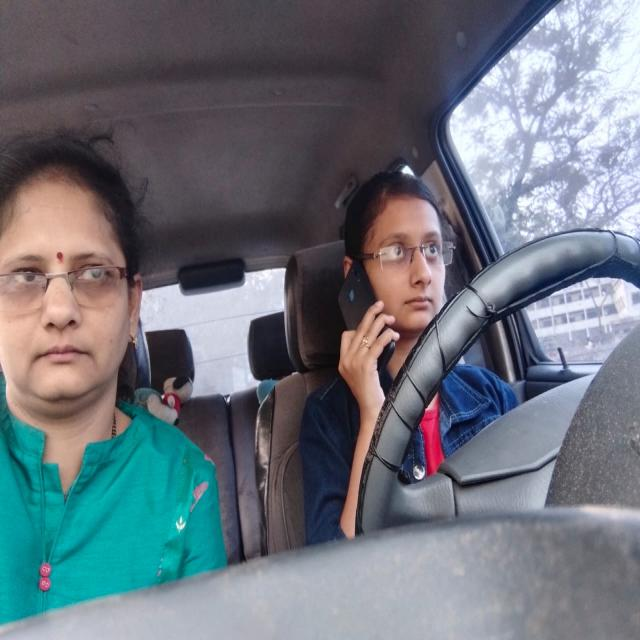mobile: (336, 258, 402, 378)
person: (0, 133, 148, 419), (340, 192, 461, 344)
